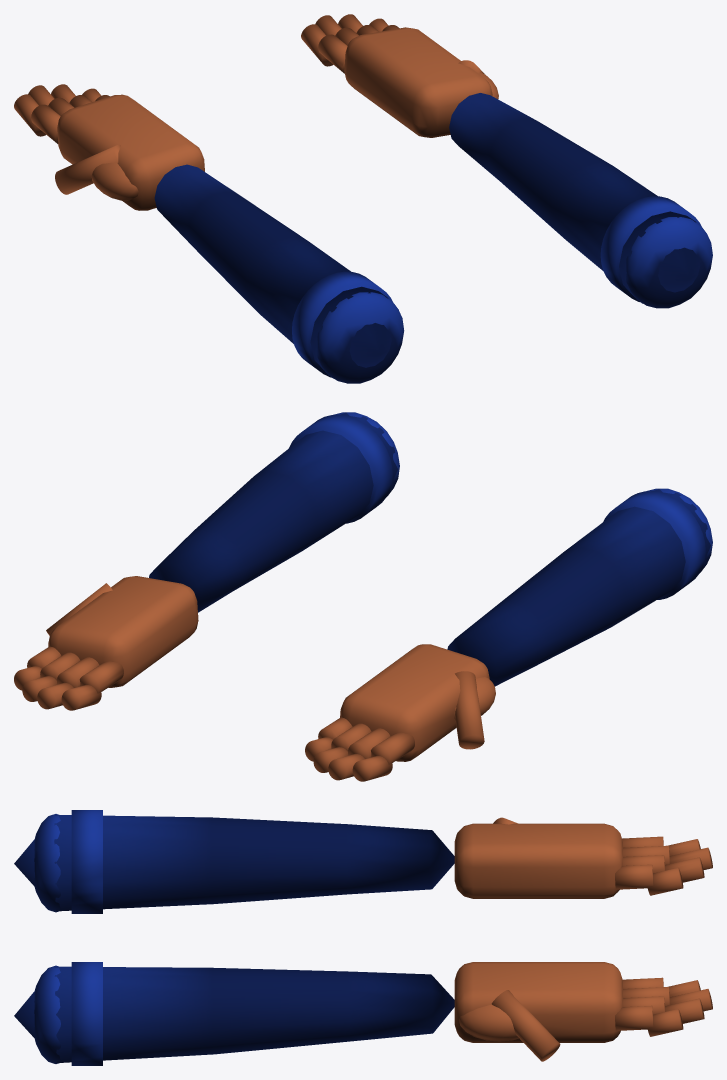
Rendered from player-hands-and-arms.obj.
3 views of the same model, one above another, from view 1: azimuth 30°, elevation 25°; view 2: azimuth 150°, elevation 25°; view 3: azimuth 270°, elevation 25° (orthographic).
Parts seen in each view (by area): view 1: player-hands-and-arms; view 2: player-hands-and-arms; view 3: player-hands-and-arms.
Part boxes in pixels (x1,y1,x2,y2): player-hands-and-arms: (14, 14, 712, 383); player-hands-and-arms: (14, 412, 712, 781); player-hands-and-arms: (14, 810, 712, 1065).
Bounding box in the file's own units: 0.4466 × 0.093 × 0.6226.
